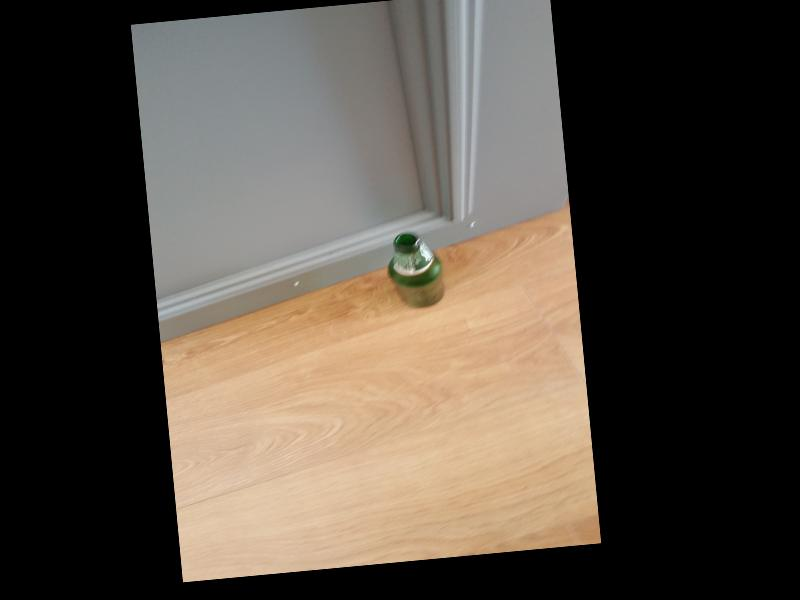Beer: (385, 230, 444, 310)
